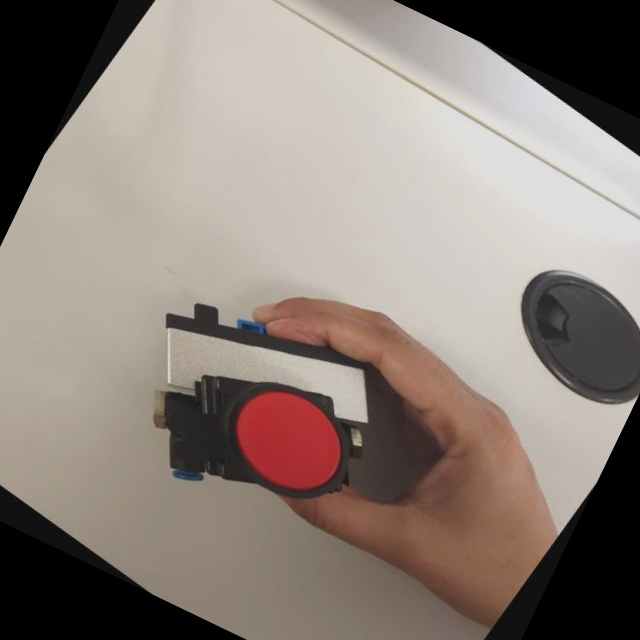push button: (60, 233, 446, 593)
